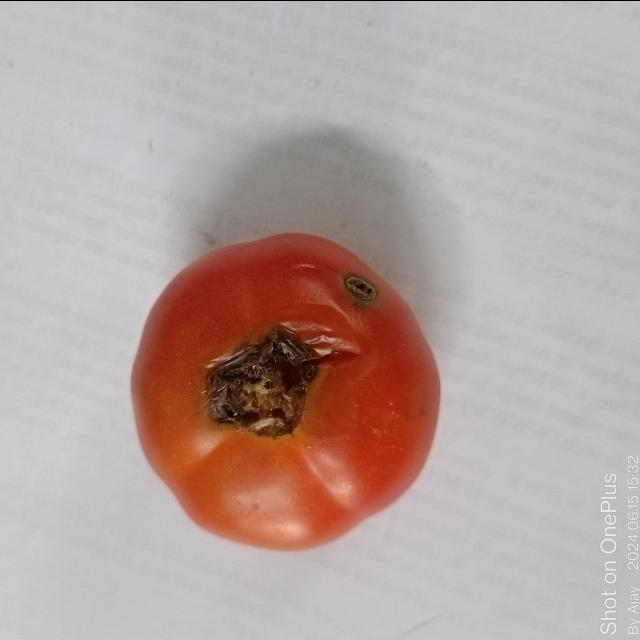Botrytis: (204, 342, 312, 438), (334, 260, 383, 306)
